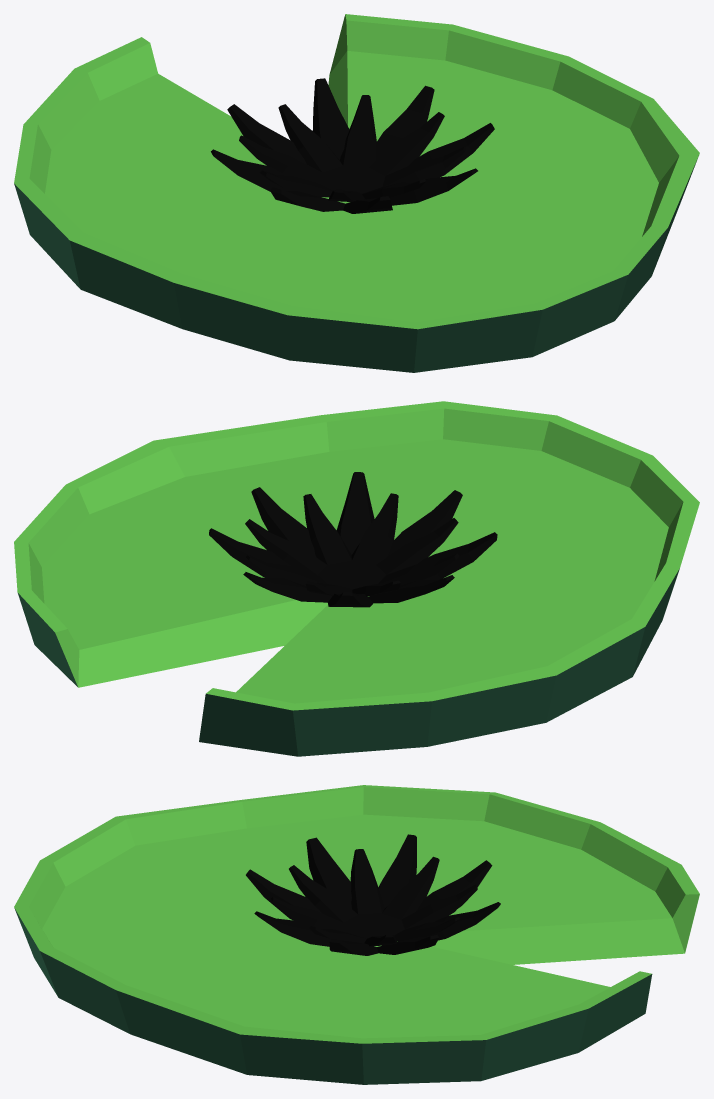
File: Water Lily 05.fbx
3 views of the same model, one above another, from view 1: azimuth 30°, elevation 25°; view 2: azimuth 150°, elevation 25°; view 3: azimuth 270°, elevation 25° (orthographic). The views are drawn at different scales.
Parts seen in each view (by area): view 1: Water Lily 05; view 2: Water Lily 05; view 3: Water Lily 05.
Part boxes in pixels (x1,y1,x2,y2): Water Lily 05: (14, 14, 699, 372); Water Lily 05: (14, 401, 699, 756); Water Lily 05: (14, 785, 699, 1084).
Size of the model in its own units: 123 by 17.17 by 138.
